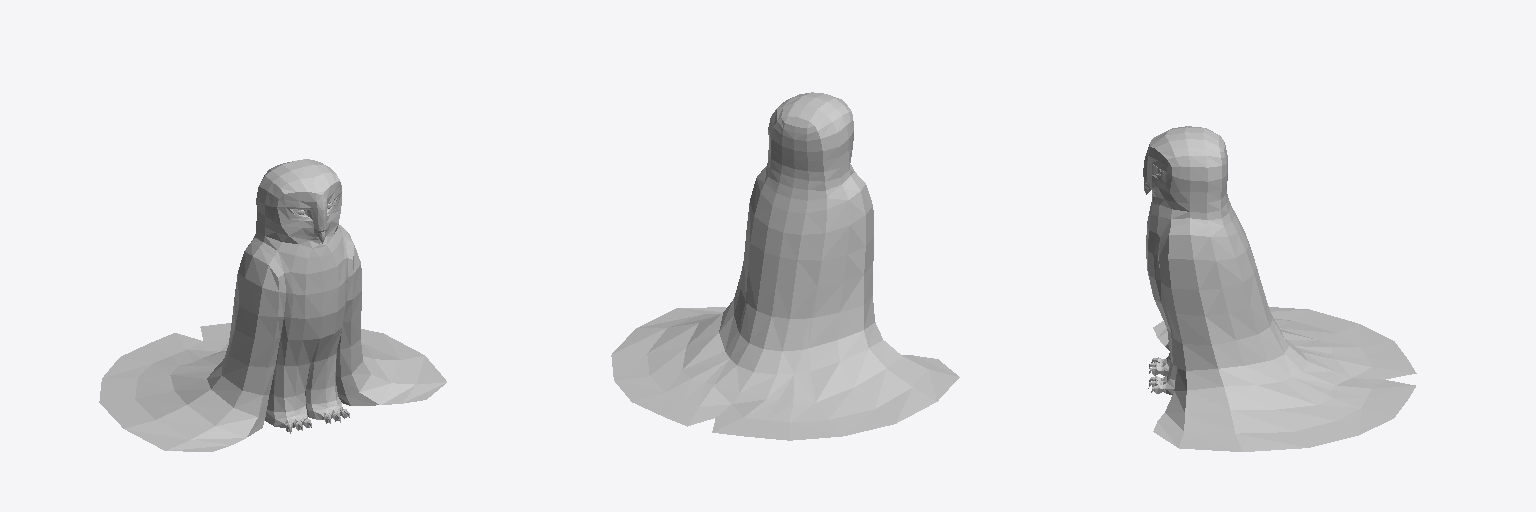
File: Wan Shi Tong.obj
The picture shows the model from 3 angles: view 1: azimuth 30°, elevation 25°; view 2: azimuth 150°, elevation 25°; view 3: azimuth 270°, elevation 25°; orthographic projection.
Visible parts, largest first — view 1: Wan_Shi_Tong:Mesh; view 2: Wan_Shi_Tong:Mesh; view 3: Wan_Shi_Tong:Mesh.
Boxes of the visible parts, box(x1,y1,x2,y2) form: Wan_Shi_Tong:Mesh: box(99, 159, 446, 451); Wan_Shi_Tong:Mesh: box(611, 92, 959, 440); Wan_Shi_Tong:Mesh: box(1143, 126, 1416, 451).
Size of the model in its own units: 5.72 by 4.49 by 4.49.